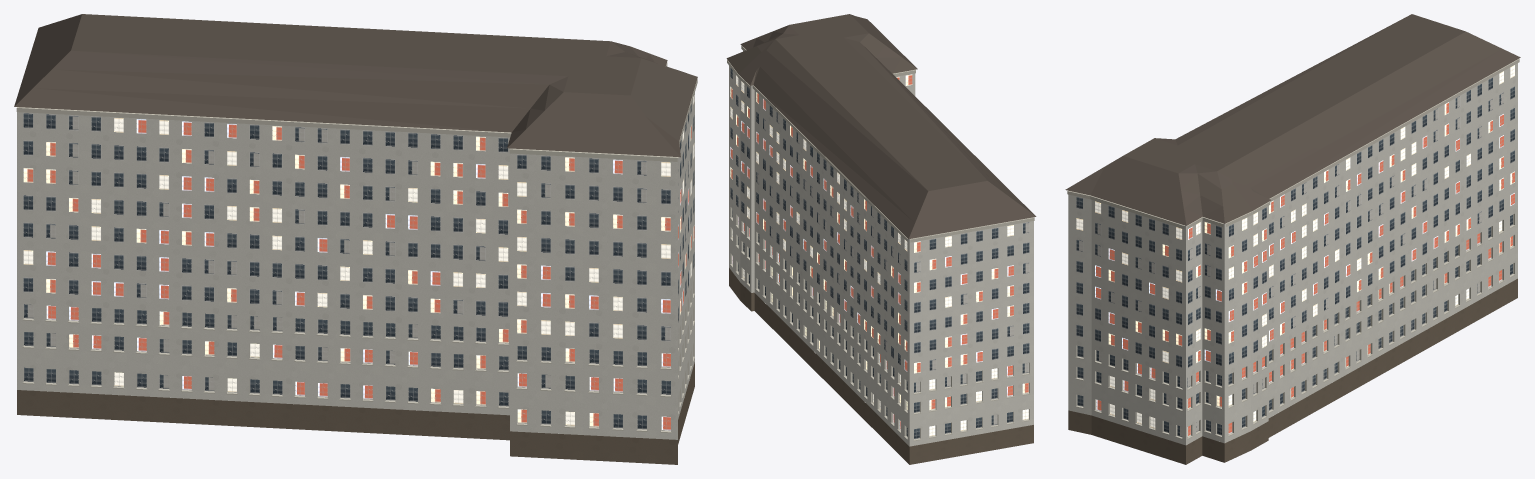
File: stadtmuehle.glb
The picture shows the model from 3 angles, left to right: view 1: azimuth 30°, elevation 25°; view 2: azimuth 150°, elevation 25°; view 3: azimuth 270°, elevation 25°; orthographic projection. The views are drawn at different scales.
Visible parts, largest first — view 1: stadtmuehle; view 2: stadtmuehle; view 3: stadtmuehle.
Part boxes in pixels (bbox=[...]): stadtmuehle: bbox=[14, 14, 697, 464]; stadtmuehle: bbox=[726, 14, 1036, 464]; stadtmuehle: bbox=[1065, 14, 1520, 464].
Bounding box in the file's own units: 68.15 × 41.52 × 63.68.
Materials: 3 (3 with a texture image).
